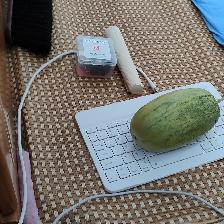gua: (141, 87, 212, 147)
